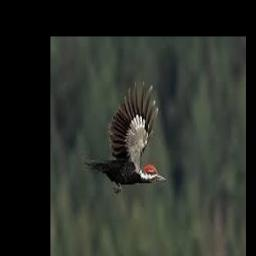Woodpecker: (84, 81, 167, 194)
